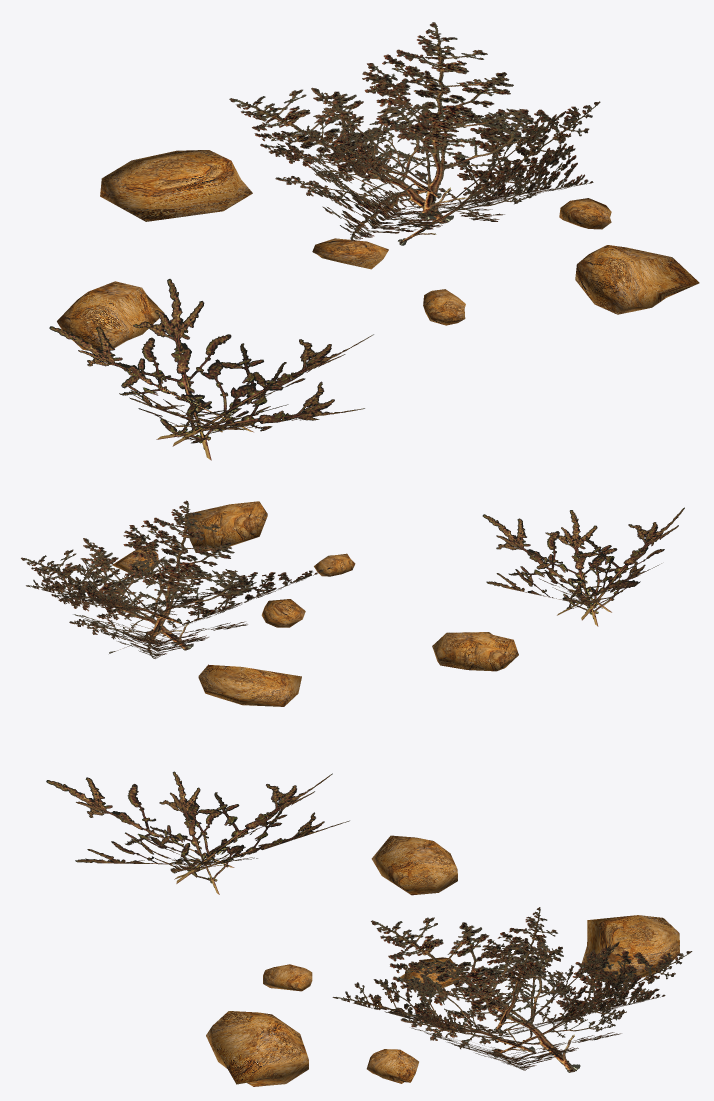
File: bushstone1.dae
3 renders of one model, top to bottom at view 1: azimuth 30°, elevation 25°; view 2: azimuth 150°, elevation 25°; view 3: azimuth 270°, elevation 25°, orthographic. The views are drawn at different scales.
Parts seen in each view (by area): view 1: Plane.006; view 2: Plane.006; view 3: Plane.006.
Part boxes in pixels (x1,y1,x2,y2): Plane.006: [49, 22, 699, 460]; Plane.006: [21, 500, 684, 706]; Plane.006: [46, 771, 692, 1086].
Bounding box in the file's own units: 3.29 × 3.1 × 0.5806.
Materials: 1 (1 with a texture image).
